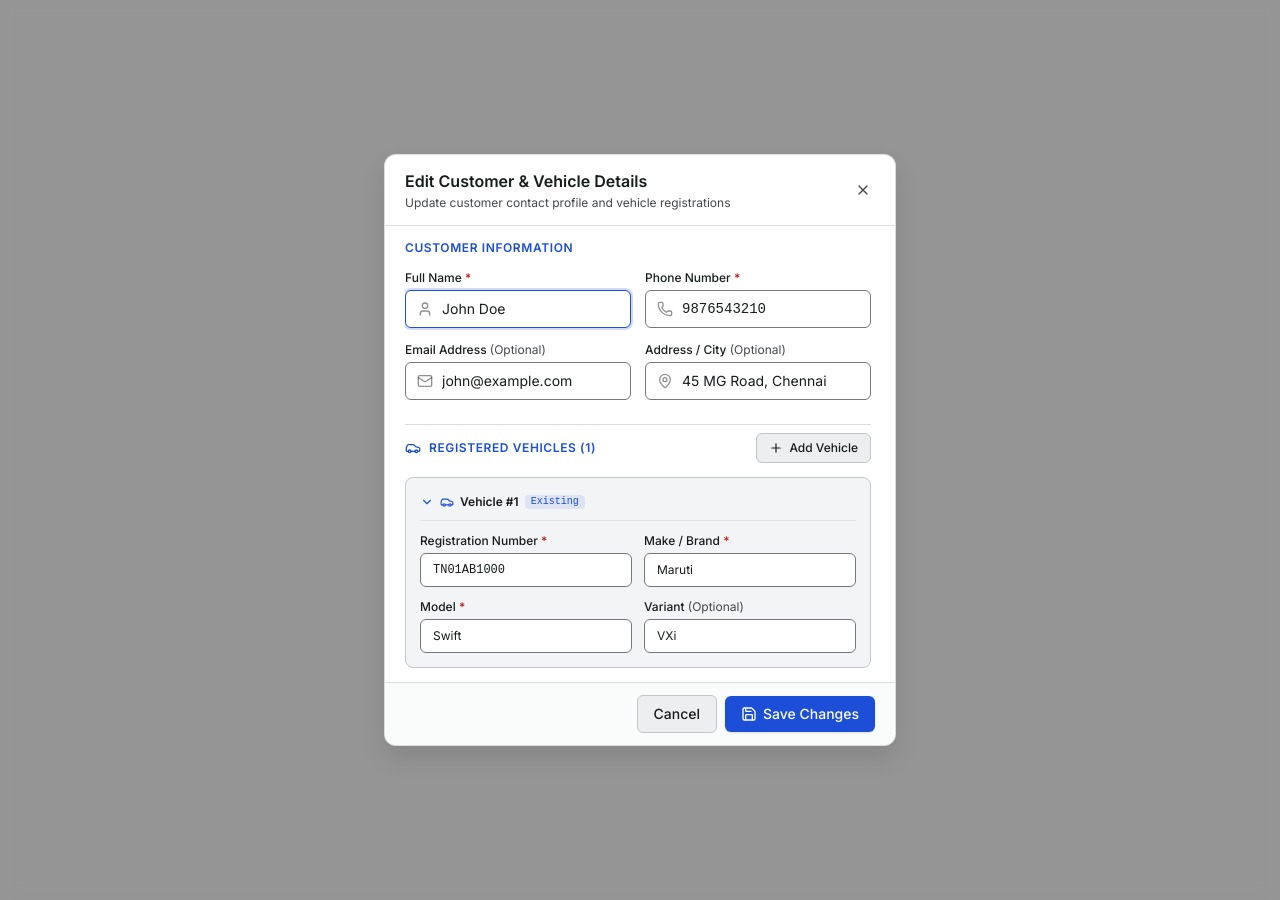
Test case: EditCustomerModal Component & Vehicle Uniqueness › Test 1: vehicle ownership conflict does not show generic "Record Not Found" error
Expected: the field showing "TN01AB1000" below "Registration Number" is shown, [420,553,632,587]
Click the button "Add Vehicle" at (814, 448), box [756,433,871,463]
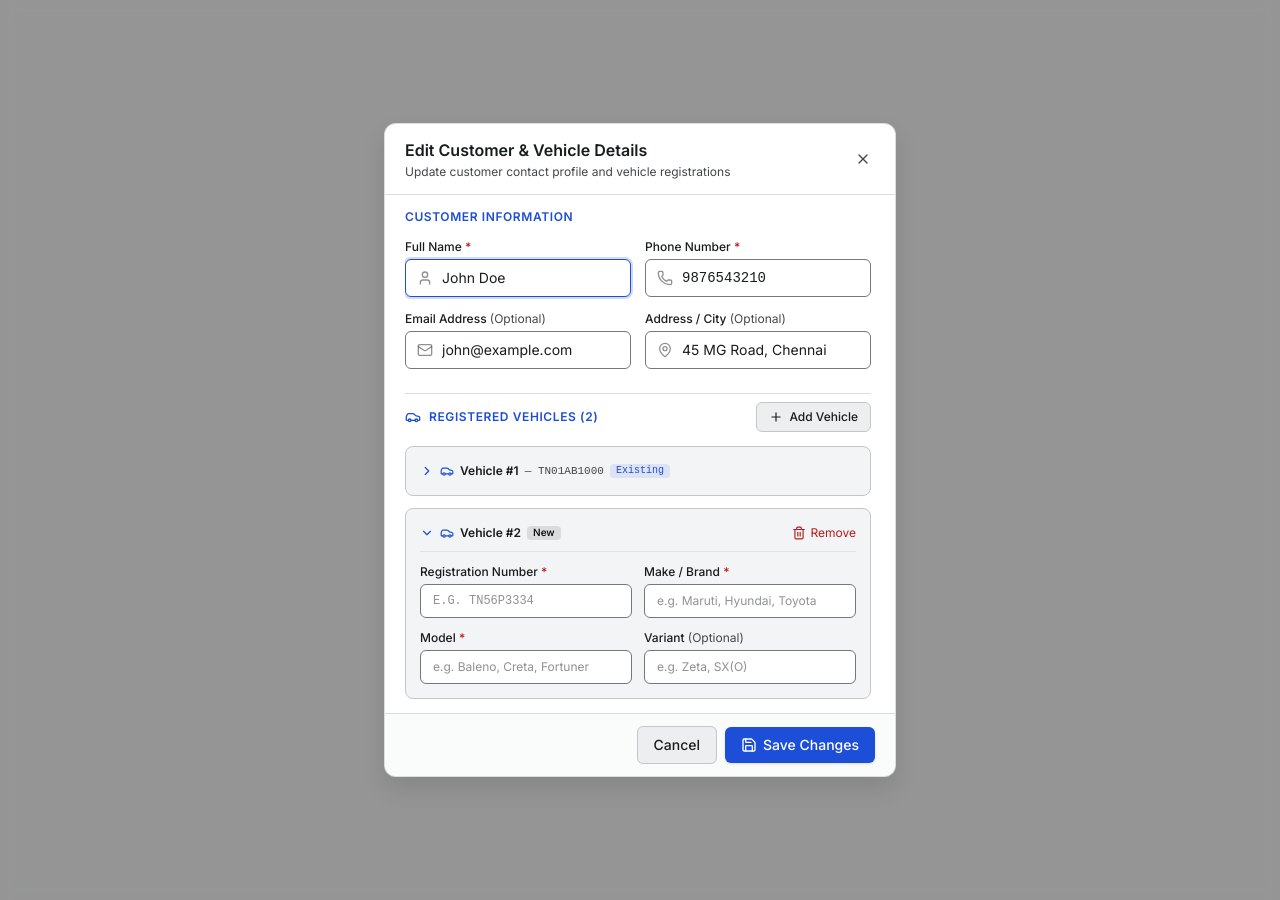
Type "TN56P3334" into the field with placeholder "e.g. TN56P3334" at (526, 601), box [420,584,632,618]
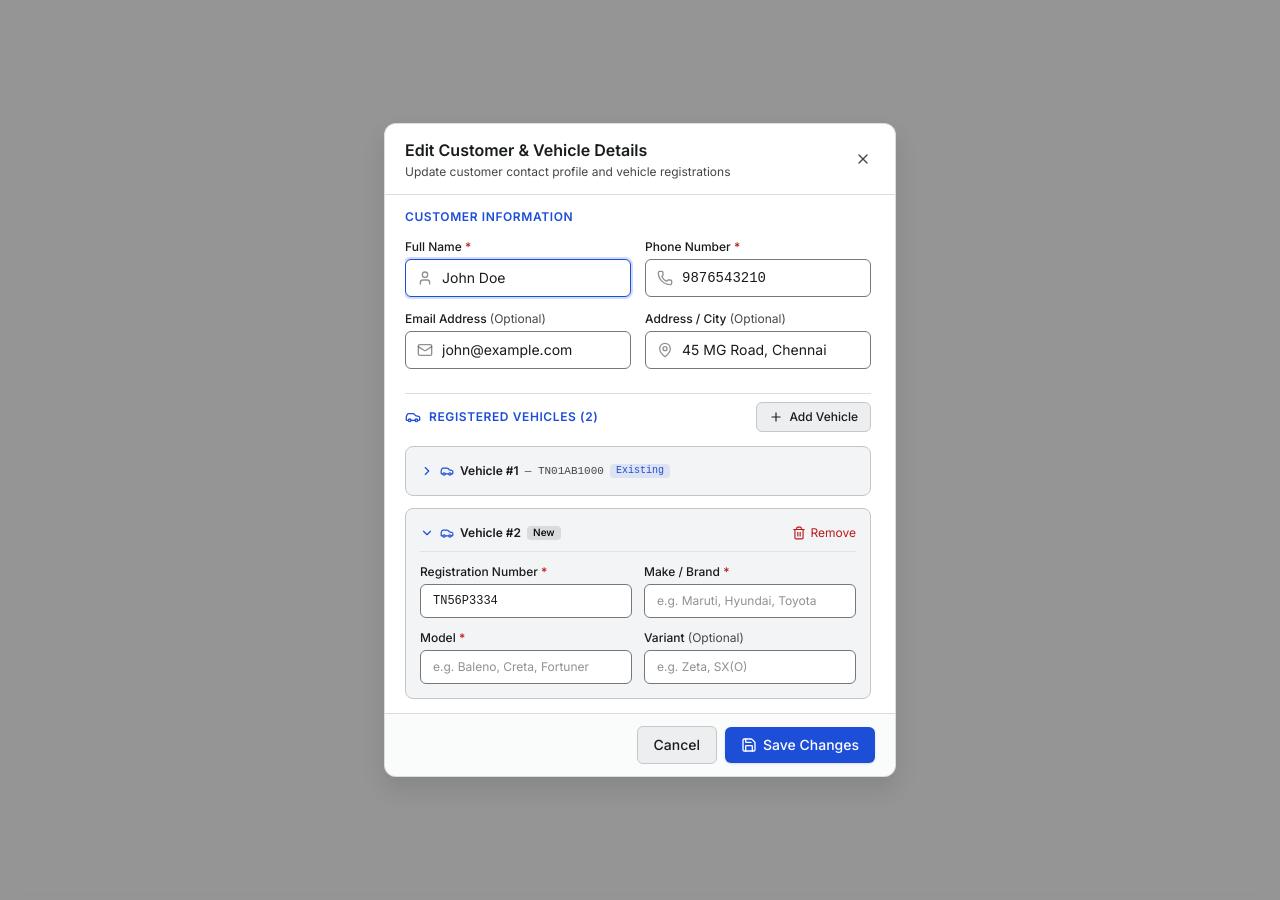
Type "Maruti" into the field with placeholder "e.g. Maruti, Hyundai, Toyota" at (750, 601), box [644,584,856,618]
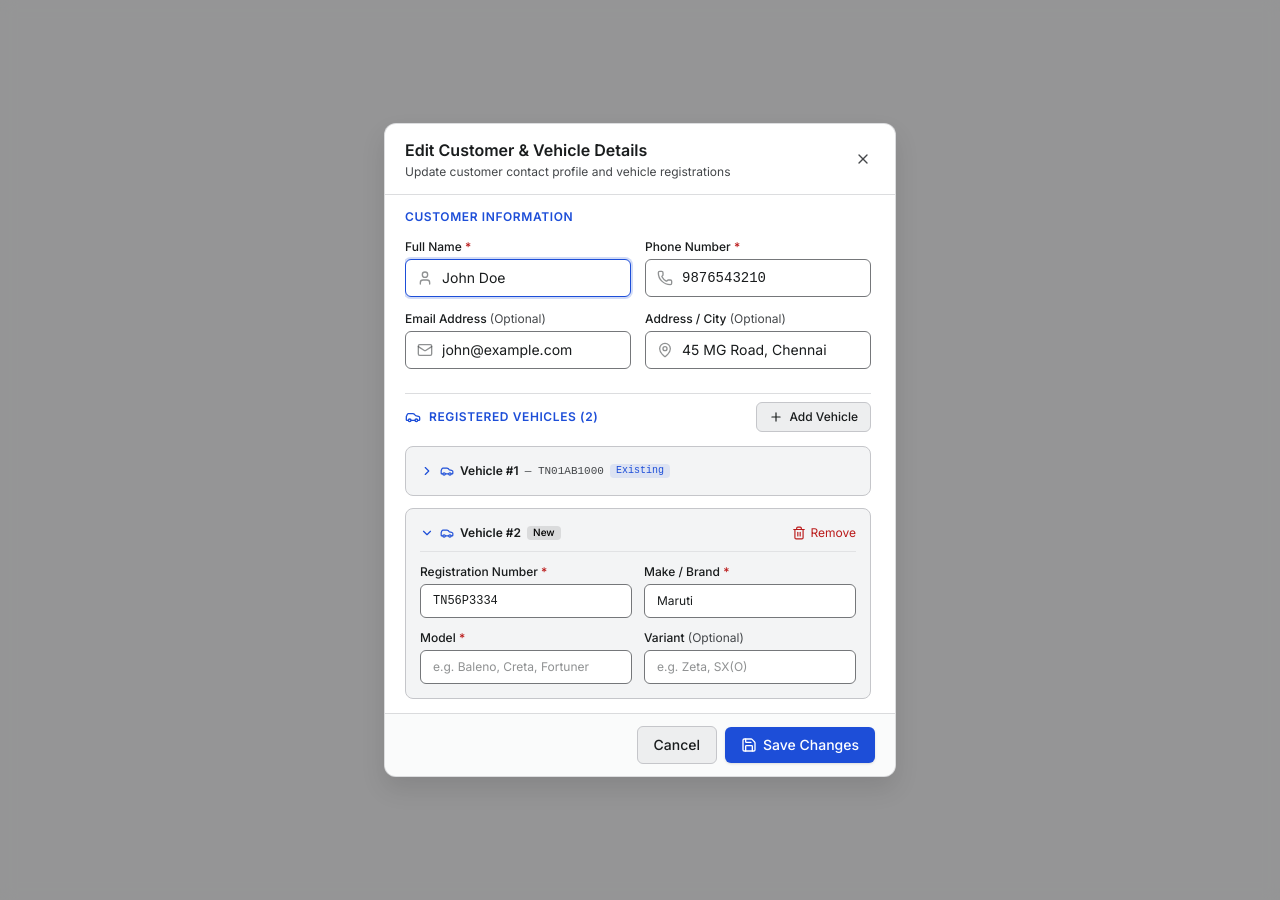
Type "Baleno" into the field with placeholder "e.g. Baleno, Creta, Fortuner" at (526, 667), box [420,650,632,684]
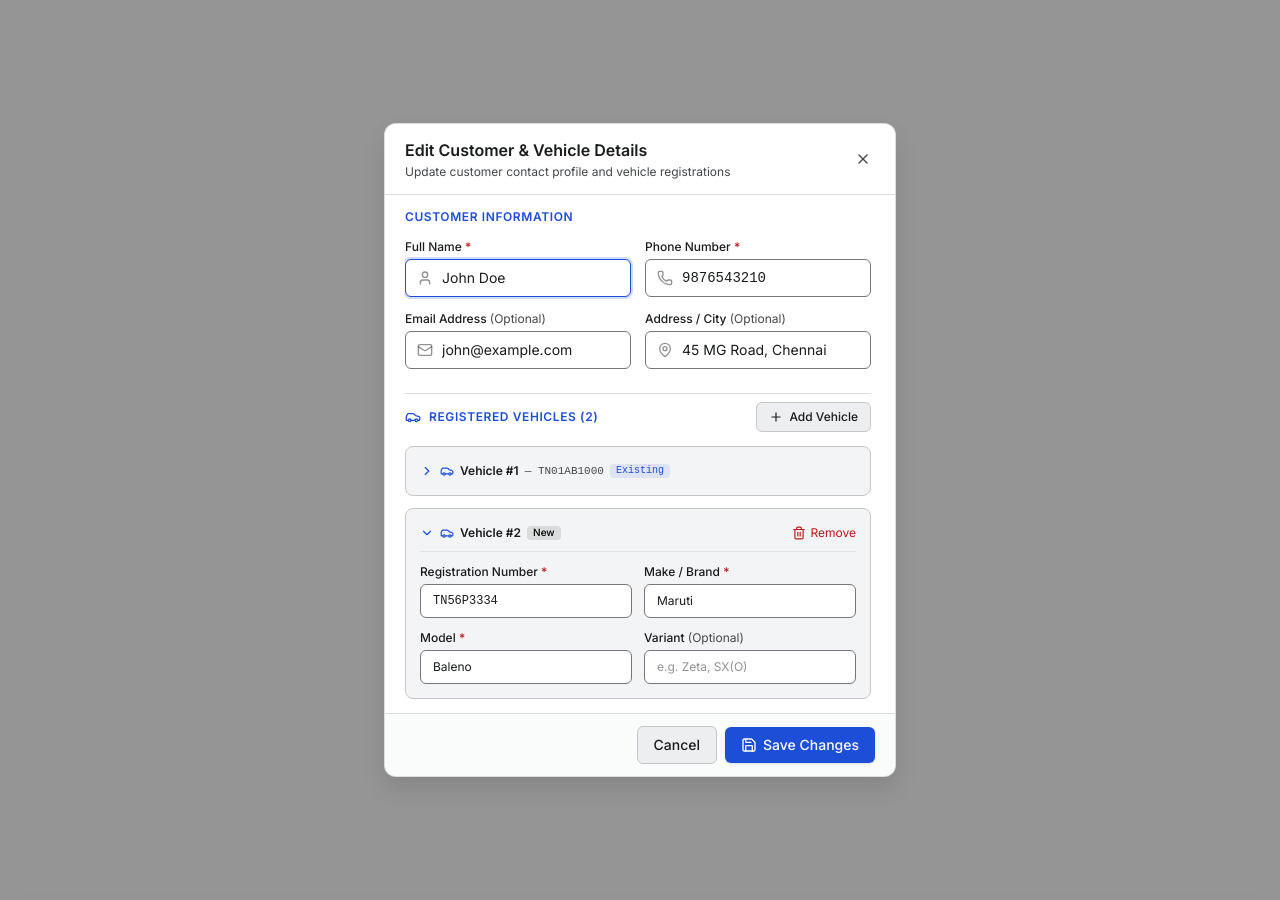
Click the button "Save Changes" at (800, 745), box [725,727,875,763]
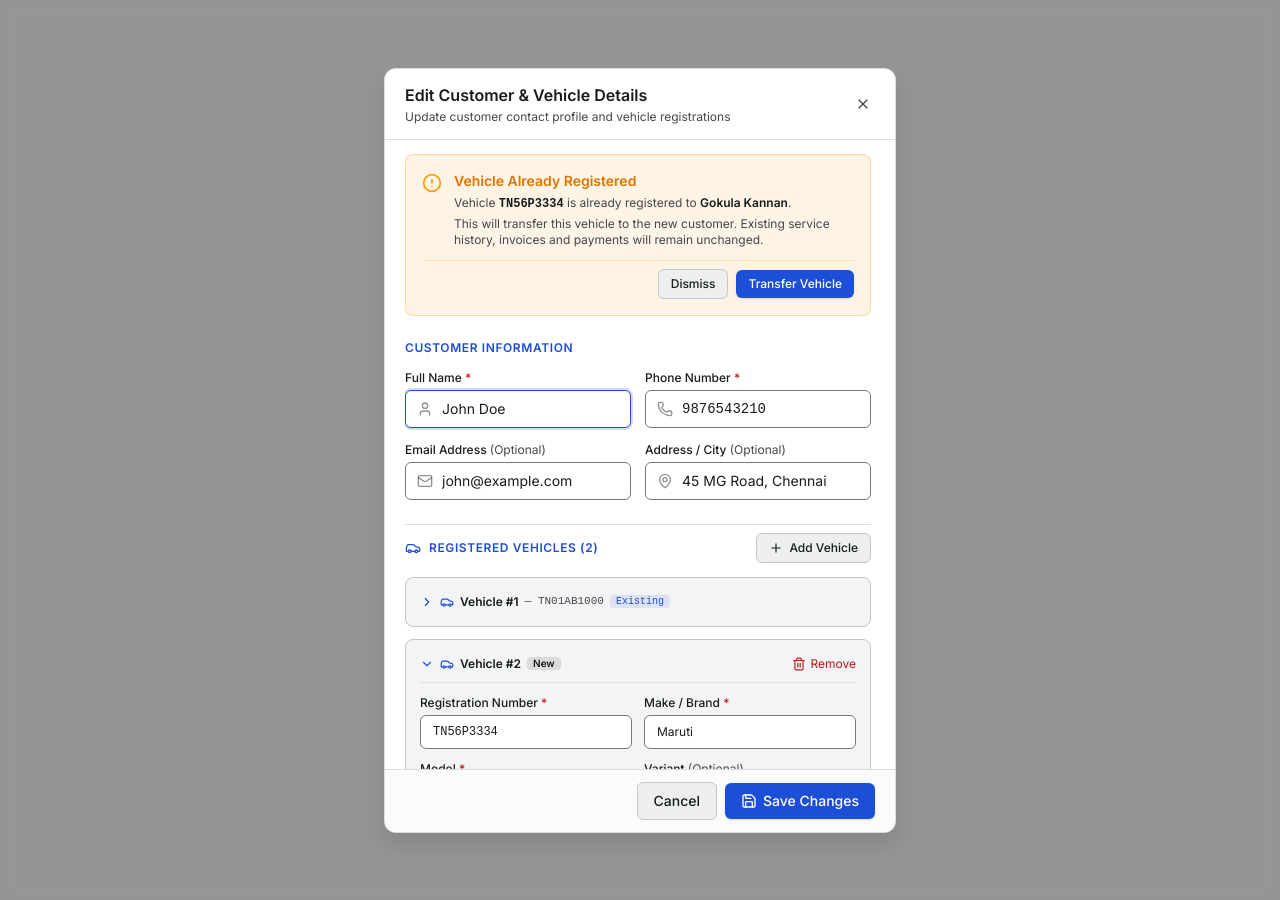
Now the text "Vehicle Already Registered" is shown, box [454,172,636,188]
Now the text "Gokula Kannan" is shown, box [700,194,788,210]
Now the button "Transfer Vehicle" is shown, box [736,270,854,298]
